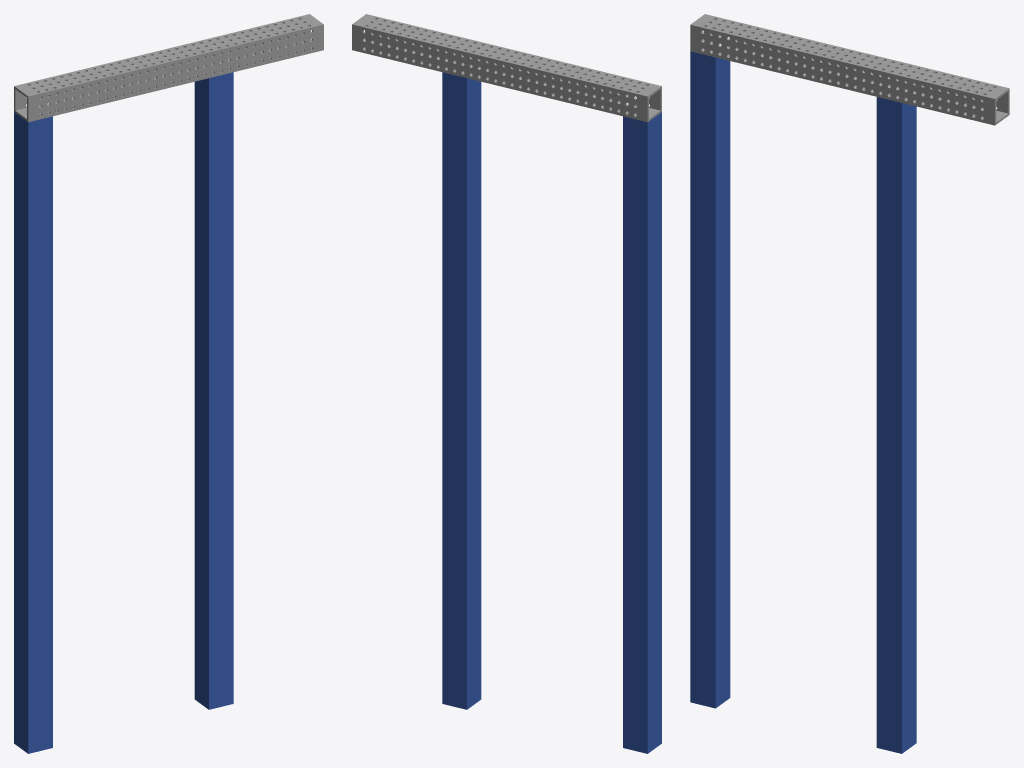
The picture shows the model from 3 angles, left to right: view 1: azimuth 30°, elevation 25°; view 2: azimuth 150°, elevation 25°; view 3: azimuth 330°, elevation 25°; orthographic projection. The views are drawn at different scales.
Visible parts, largest first — view 1: Part 2 (×2), Tube 1.5"x1.5"x18"; view 2: Part 2 (×2), Tube 1.5"x1.5"x18"; view 3: Part 2 (×2), Tube 1.5"x1.5"x18".
Part boxes in pixels (x1,y1,x2,y2): Part 2 (×2): [14, 72, 233, 753]; Tube 1.5"x1.5"x18": [14, 14, 323, 122]; Part 2 (×2): [442, 72, 661, 753]; Tube 1.5"x1.5"x18": [352, 14, 661, 122]; Part 2 (×2): [690, 51, 916, 753]; Tube 1.5"x1.5"x18": [690, 14, 1009, 125].
Bounding box in the file's own units: 0.4572 × 0.9715 × 0.0381.
